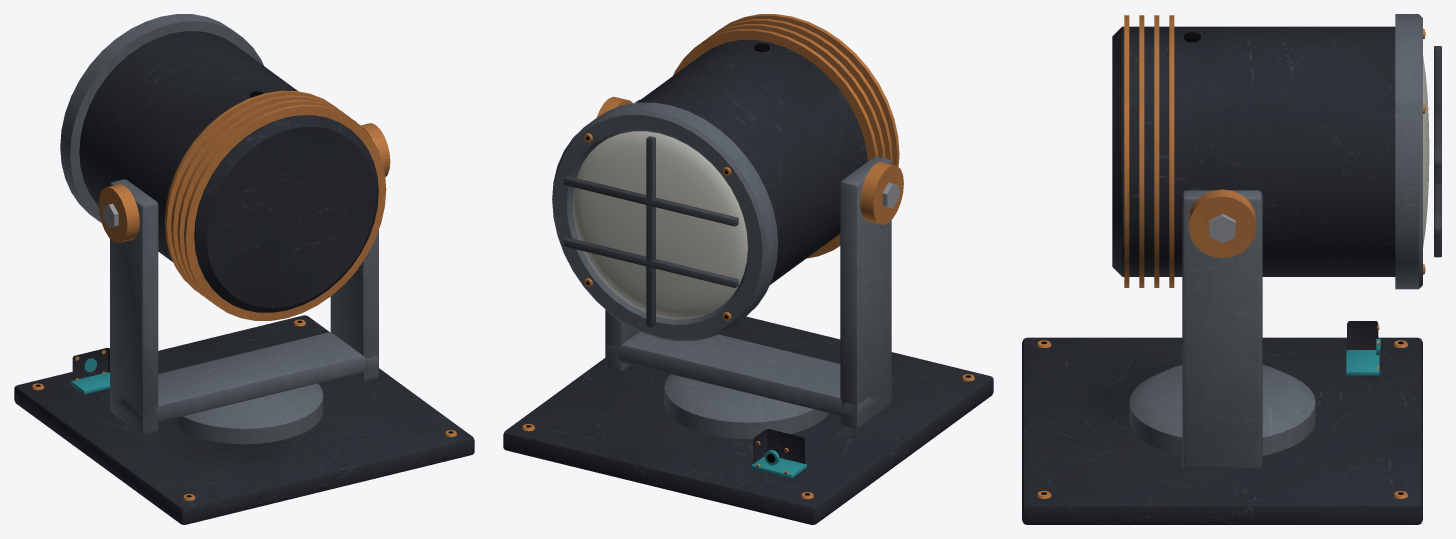
The model's file is spotlight.glb.
3 views of the same model, side by side, from view 1: azimuth 30°, elevation 25°; view 2: azimuth 150°, elevation 25°; view 3: azimuth 270°, elevation 25° (orthographic). The views are drawn at different scales.
Visible parts, largest first — view 1: Body; view 2: Body; view 3: Body.
Part boxes in pixels (x1,y1,x2,y2): Body: (14, 14, 474, 524); Body: (503, 14, 993, 524); Body: (1022, 14, 1441, 524).
Size of the model in its own units: 0.4 by 0.4575 by 0.419.
11 materials, 5 textured.
